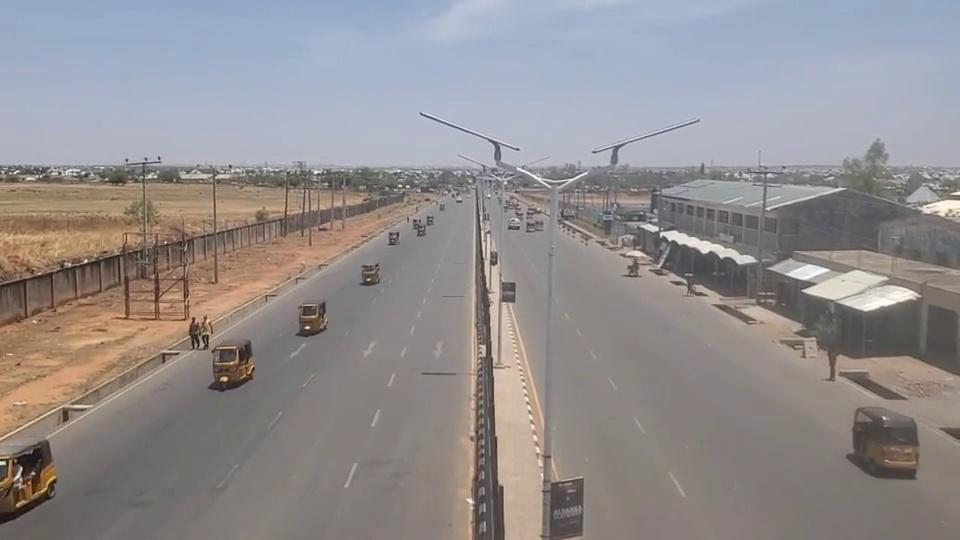keke: (851, 405, 920, 475), (0, 438, 57, 519), (211, 338, 255, 389), (297, 300, 327, 335), (361, 263, 379, 286)
